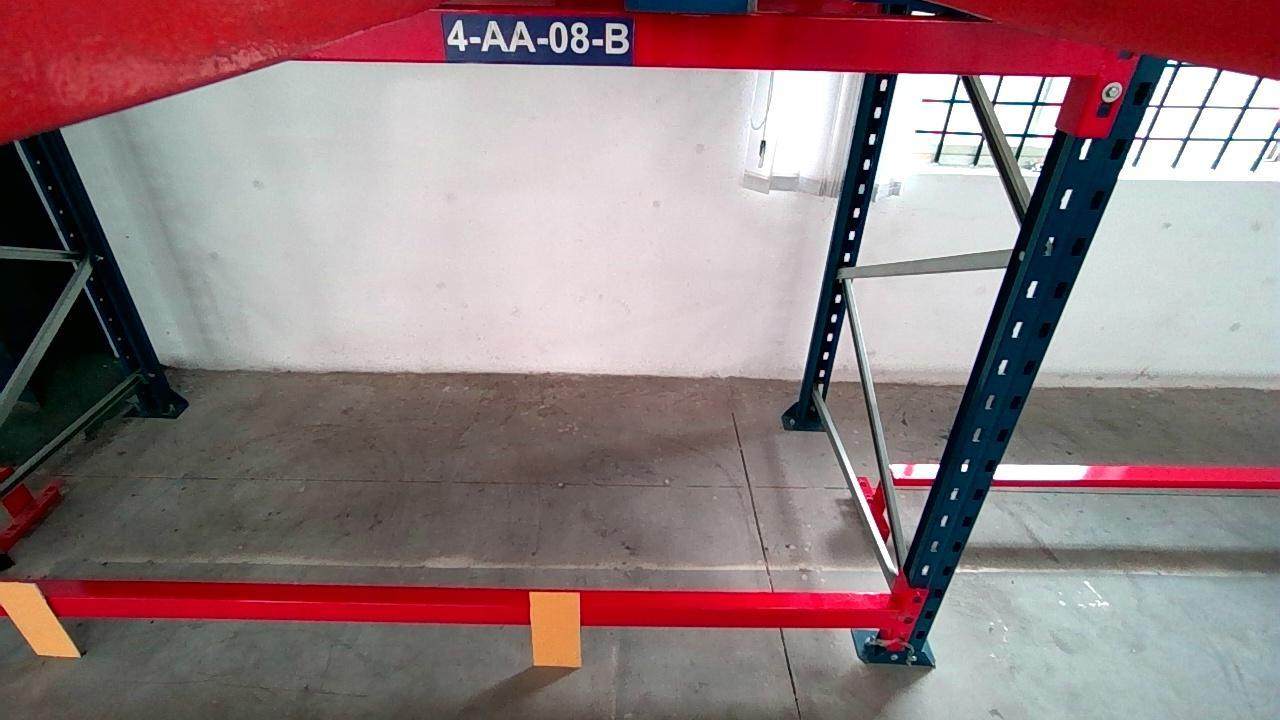h_rack: (308, 15, 1113, 73), (1, 593, 895, 628)
orange_strip: (0, 580, 79, 656), (528, 593, 580, 666)
